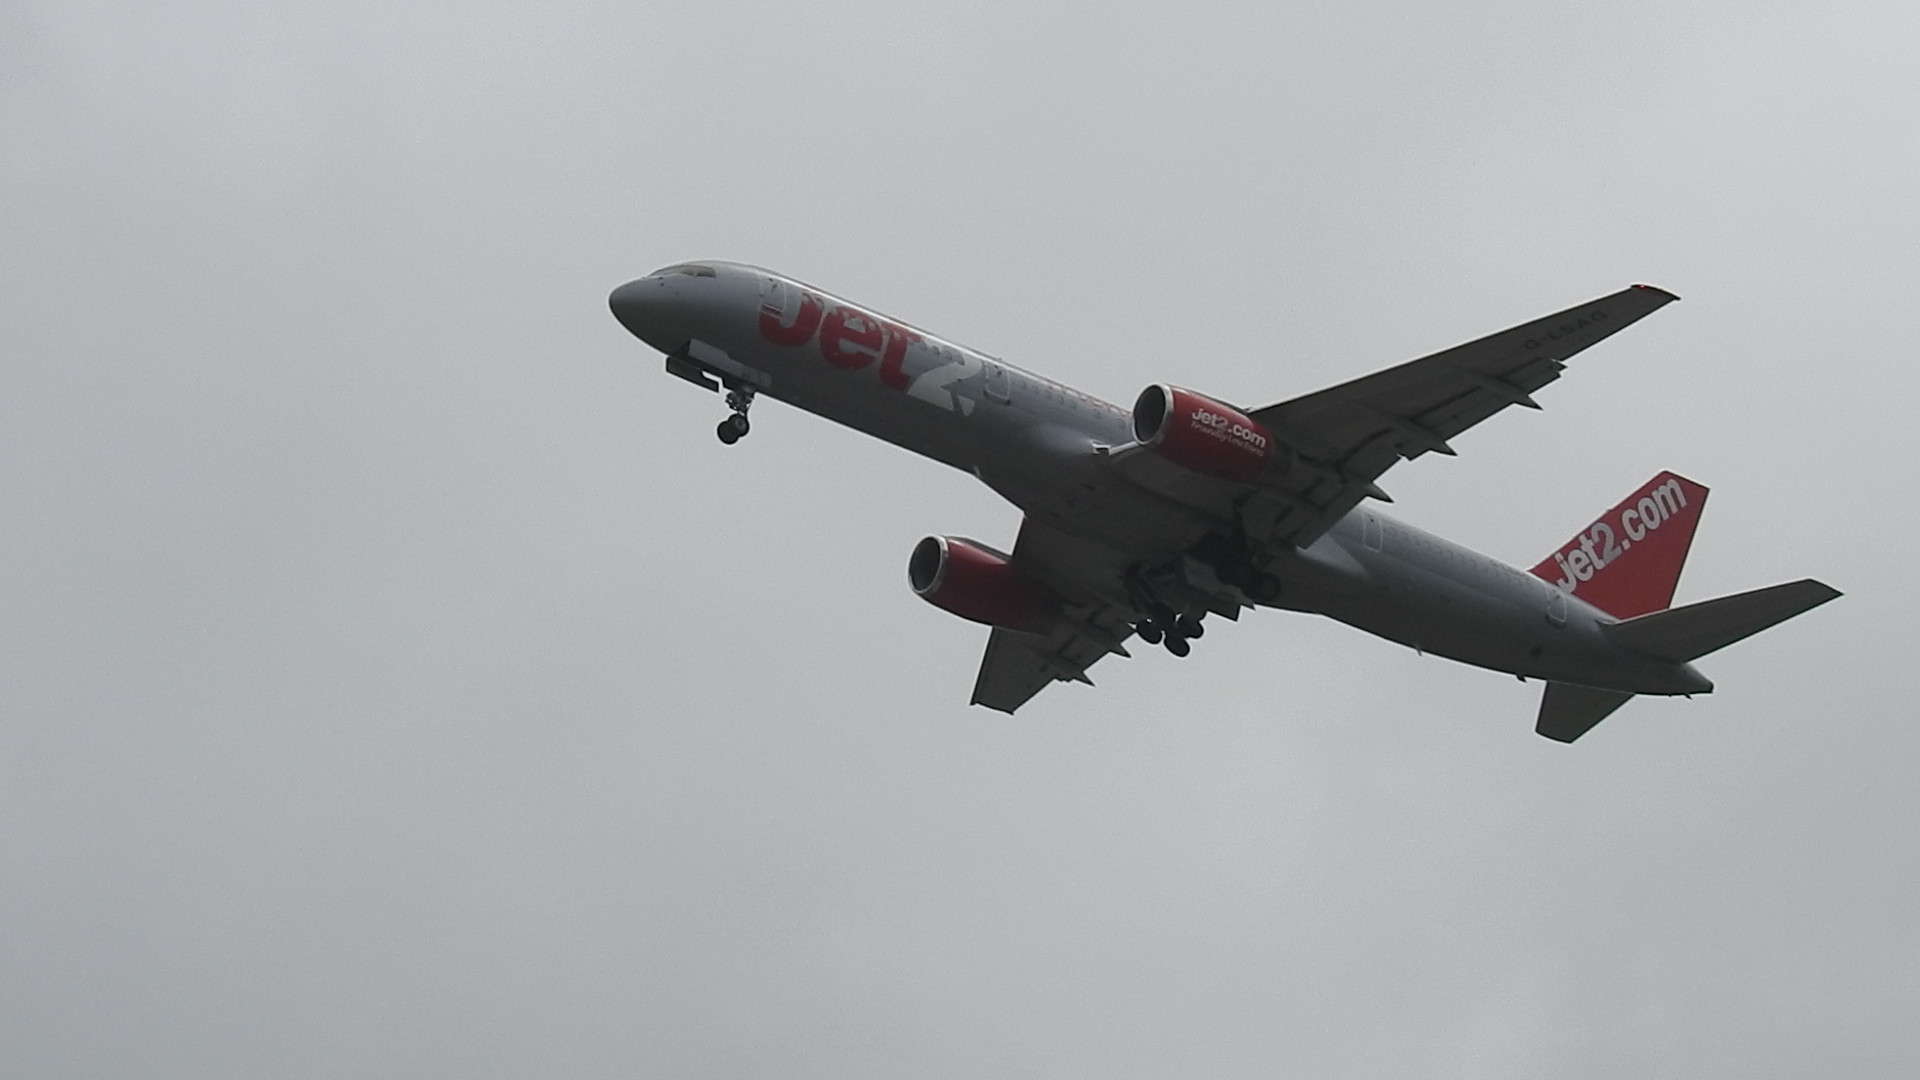aeroplane: (604, 251, 1857, 756)
